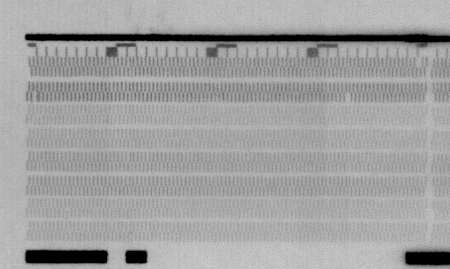Broken hole: (414, 54, 425, 69), (344, 92, 353, 105)
Oblique printing: (30, 92, 42, 104), (62, 209, 73, 221)
